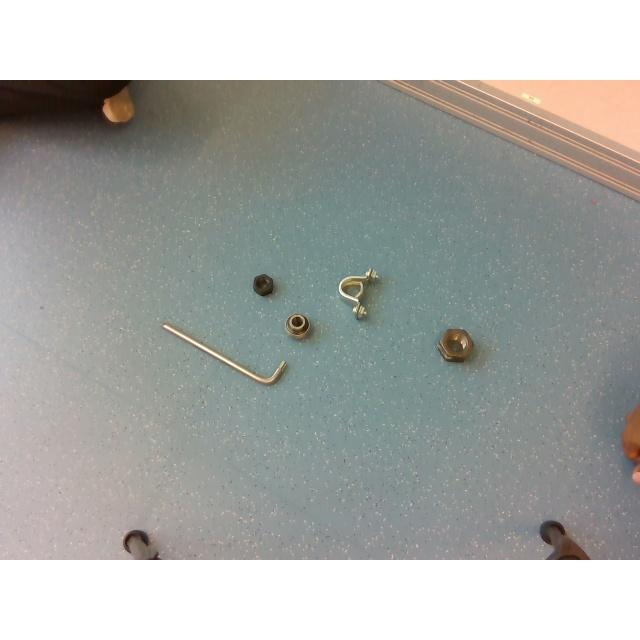AllenKey: (162, 324, 286, 384)
Bearing2: (286, 314, 310, 338)
Housing: (338, 266, 378, 318)
M20: (252, 274, 274, 296)
M30: (437, 328, 473, 360)
